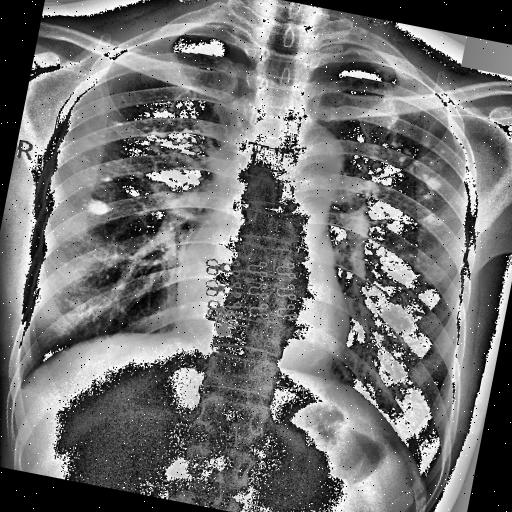11- Pleural thickening: (350, 46, 414, 80)
13- Pulmonary fibrosis: (348, 78, 472, 266), (74, 72, 225, 200), (351, 86, 467, 230), (69, 79, 207, 195), (355, 85, 467, 227)
2- Calcification: (348, 78, 472, 266), (74, 72, 225, 200), (69, 79, 207, 195), (355, 85, 467, 227), (82, 196, 116, 216), (423, 210, 448, 230), (86, 198, 108, 216), (424, 176, 440, 192)
8- Nodule-Mass: (351, 86, 467, 230), (84, 70, 212, 198), (84, 196, 112, 218), (86, 198, 108, 216), (424, 176, 440, 192)
